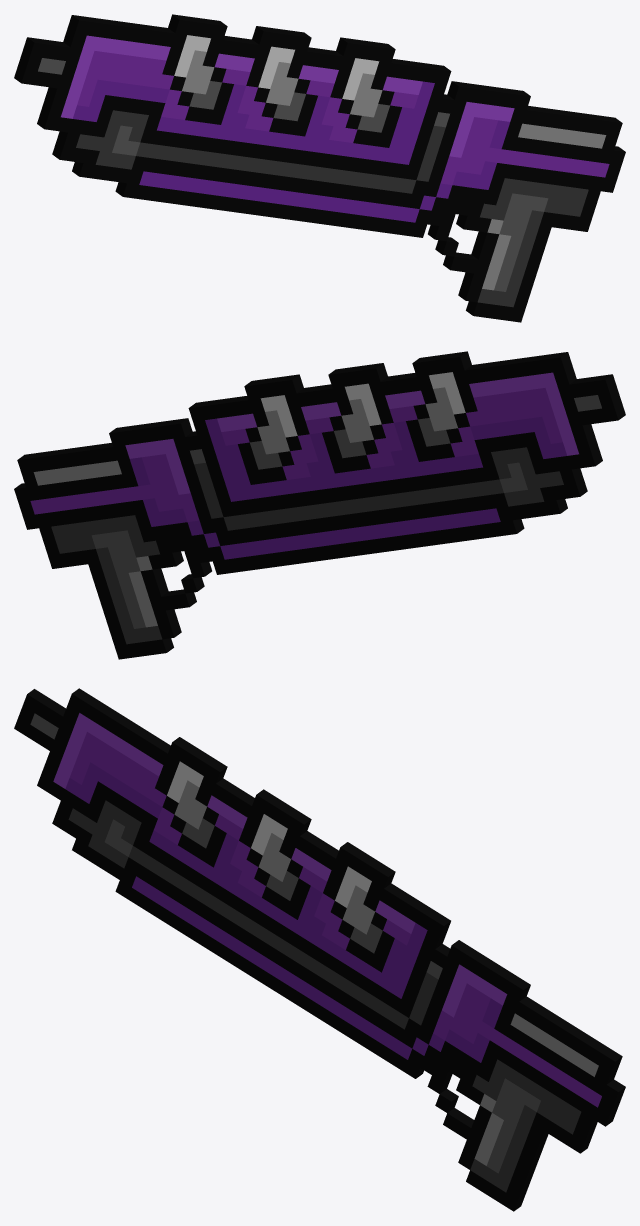
Rendered from Purple Paintball Gun.glb.
The picture shows the model from 3 angles, top to bottom: view 1: azimuth 30°, elevation 25°; view 2: azimuth 150°, elevation 25°; view 3: azimuth 330°, elevation 25°; orthographic projection.
Visible parts, largest first — view 1: Untitled; view 2: Untitled; view 3: Untitled.
Part boxes in pixels (left/top/right/bottom): Untitled: left=14, top=14, right=625, bottom=322; Untitled: left=14, top=351, right=625, bottom=659; Untitled: left=14, top=688, right=625, bottom=1211.
Bounding box in the file's own units: 18.93 × 12.27 × 0.4.
Materials: 1 (1 with a texture image).
